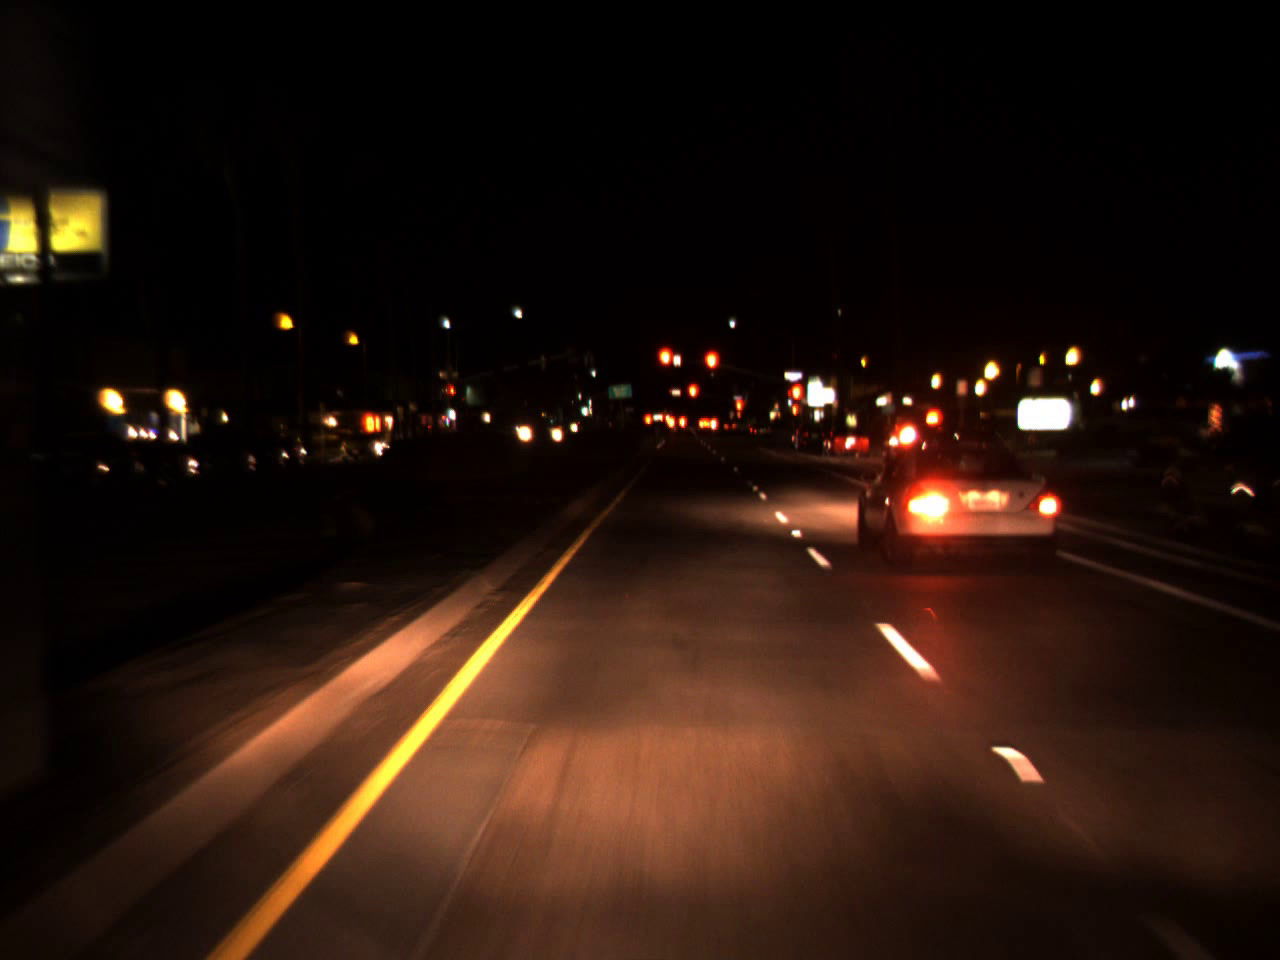stop: (784, 380, 805, 423), (656, 345, 677, 385), (701, 348, 720, 391), (686, 380, 699, 415), (446, 383, 458, 410), (734, 397, 743, 424)
